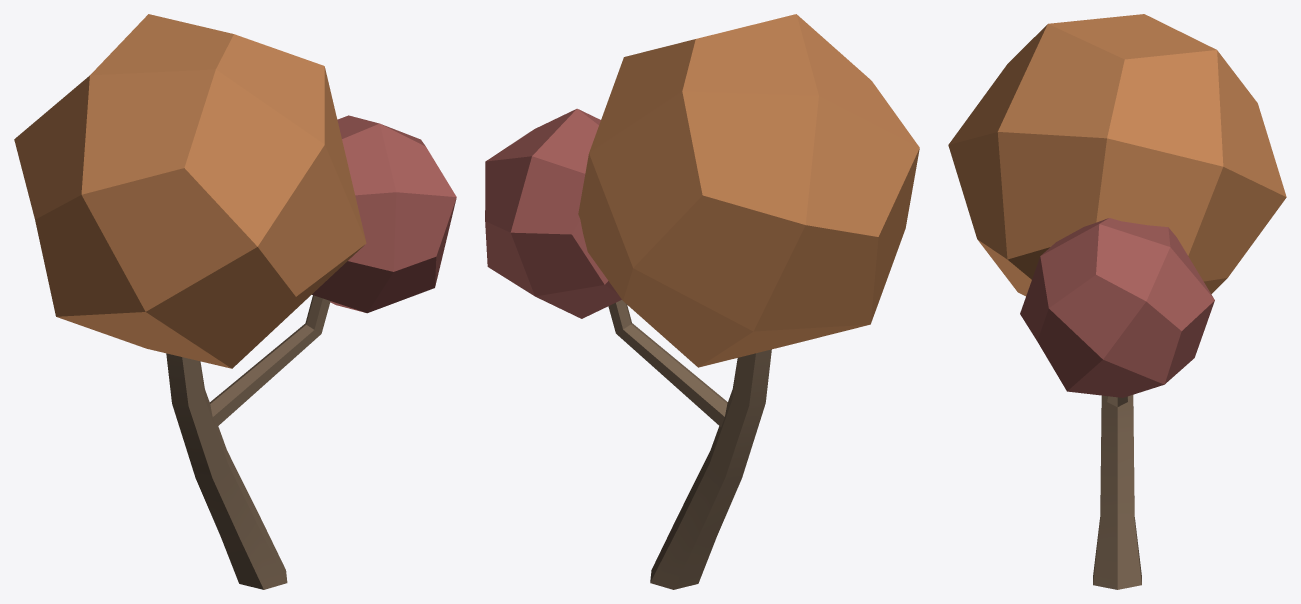
The model's file is Tree 03.fbx.
3 renders of one model, left to right at view 1: azimuth 30°, elevation 25°; view 2: azimuth 150°, elevation 25°; view 3: azimuth 270°, elevation 25°, orthographic. The views are drawn at different scales.
Parts seen in each view (by area): view 1: pCylinder357; view 2: pCylinder357; view 3: pCylinder357.
Part boxes in pixels (x1,y1,x2,y2): pCylinder357: (14, 14, 456, 589); pCylinder357: (485, 14, 919, 589); pCylinder357: (948, 14, 1286, 589).
Bounding box in the file's own units: 8.26 × 11.08 × 6.55.
